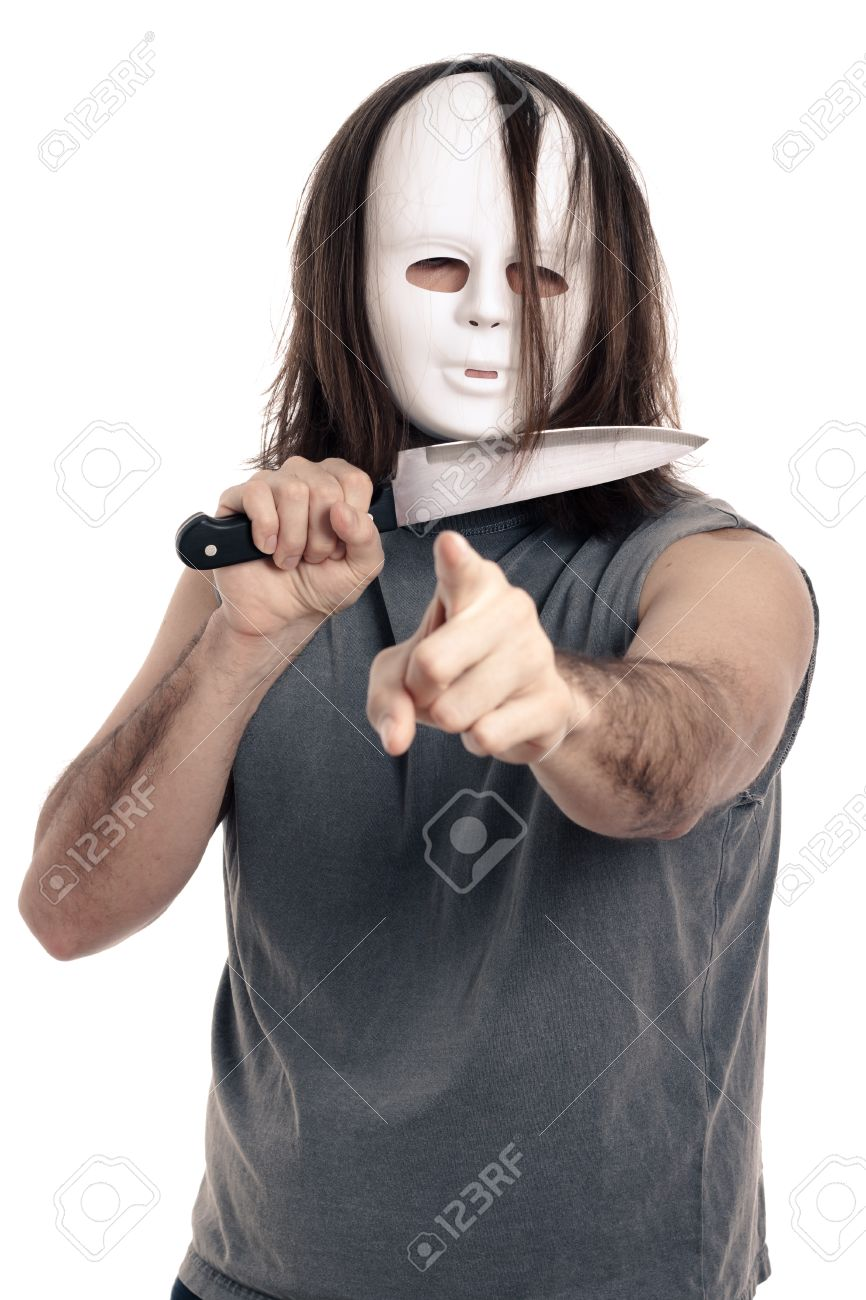knife: (176, 424, 707, 570)
